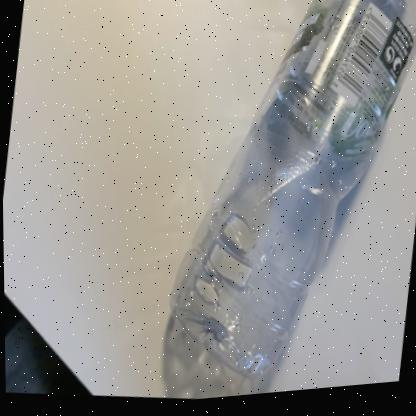Plastic: (169, 0, 416, 382)
